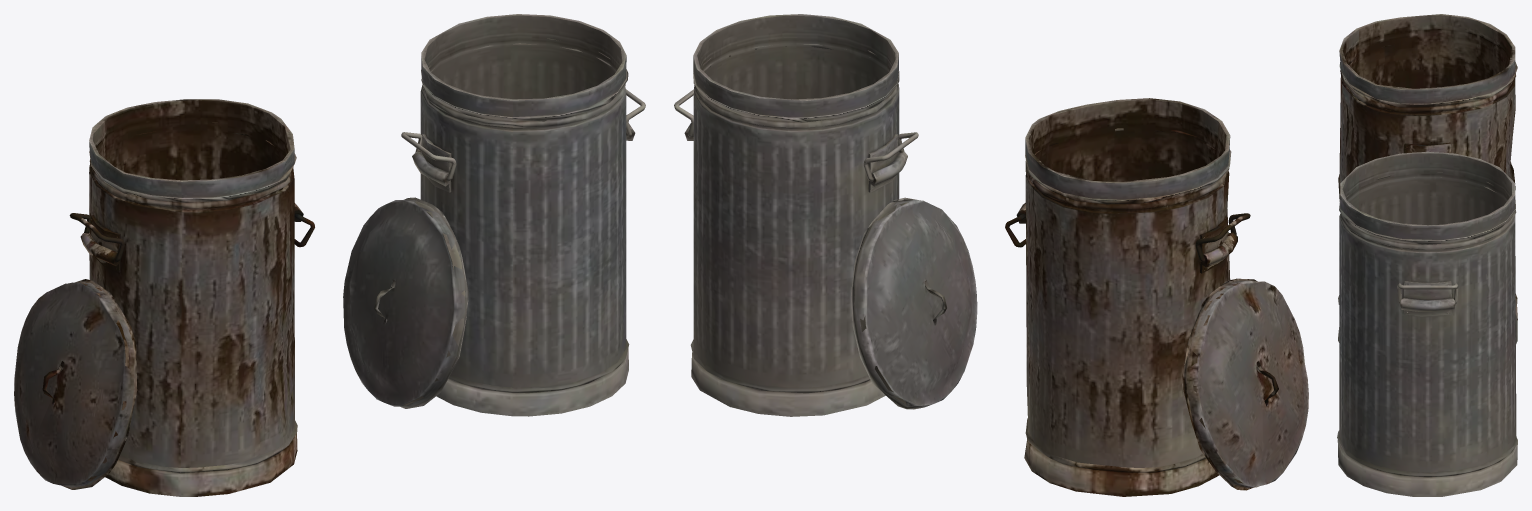
Rendered from trash_bin_outdoor.glb.
The picture shows the model from 3 angles, left to right: view 1: azimuth 30°, elevation 25°; view 2: azimuth 150°, elevation 25°; view 3: azimuth 270°, elevation 25°; orthographic projection. The views are drawn at different scales.
Parts seen in each view (by area): view 1: metal_trash_can, metal_trash_can_rust, metal_trash_can_lid, metal_trash_can_rust_lid; view 2: metal_trash_can, metal_trash_can_rust, metal_trash_can_lid, metal_trash_can_rust_lid; view 3: metal_trash_can, metal_trash_can_rust, metal_trash_can_handle_right.
Boxes of the visible parts, left/top/right/bottom form: metal_trash_can: left=412, top=14, right=635, bottom=416; metal_trash_can_rust: left=80, top=99, right=303, bottom=496; metal_trash_can_lid: left=343, top=197, right=468, bottom=408; metal_trash_can_rust_lid: left=14, top=279, right=137, bottom=489; metal_trash_can: left=684, top=14, right=907, bottom=416; metal_trash_can_rust: left=1016, top=98, right=1237, bottom=496; metal_trash_can_lid: left=851, top=197, right=977, bottom=409; metal_trash_can_rust_lid: left=1183, top=278, right=1308, bottom=490; metal_trash_can: left=1337, top=151, right=1517, bottom=496; metal_trash_can_rust: left=1338, top=14, right=1517, bottom=319; metal_trash_can_handle_right: left=1397, top=283, right=1458, bottom=303.
Size of the model in its own units: 1.78 by 0.9062 by 0.5502.
2 materials, 2 textured.
